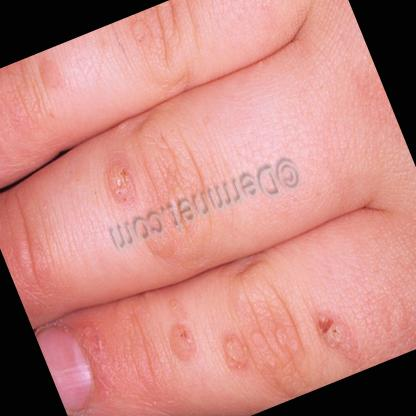Warts: (305, 300, 366, 370), (97, 154, 144, 214)
